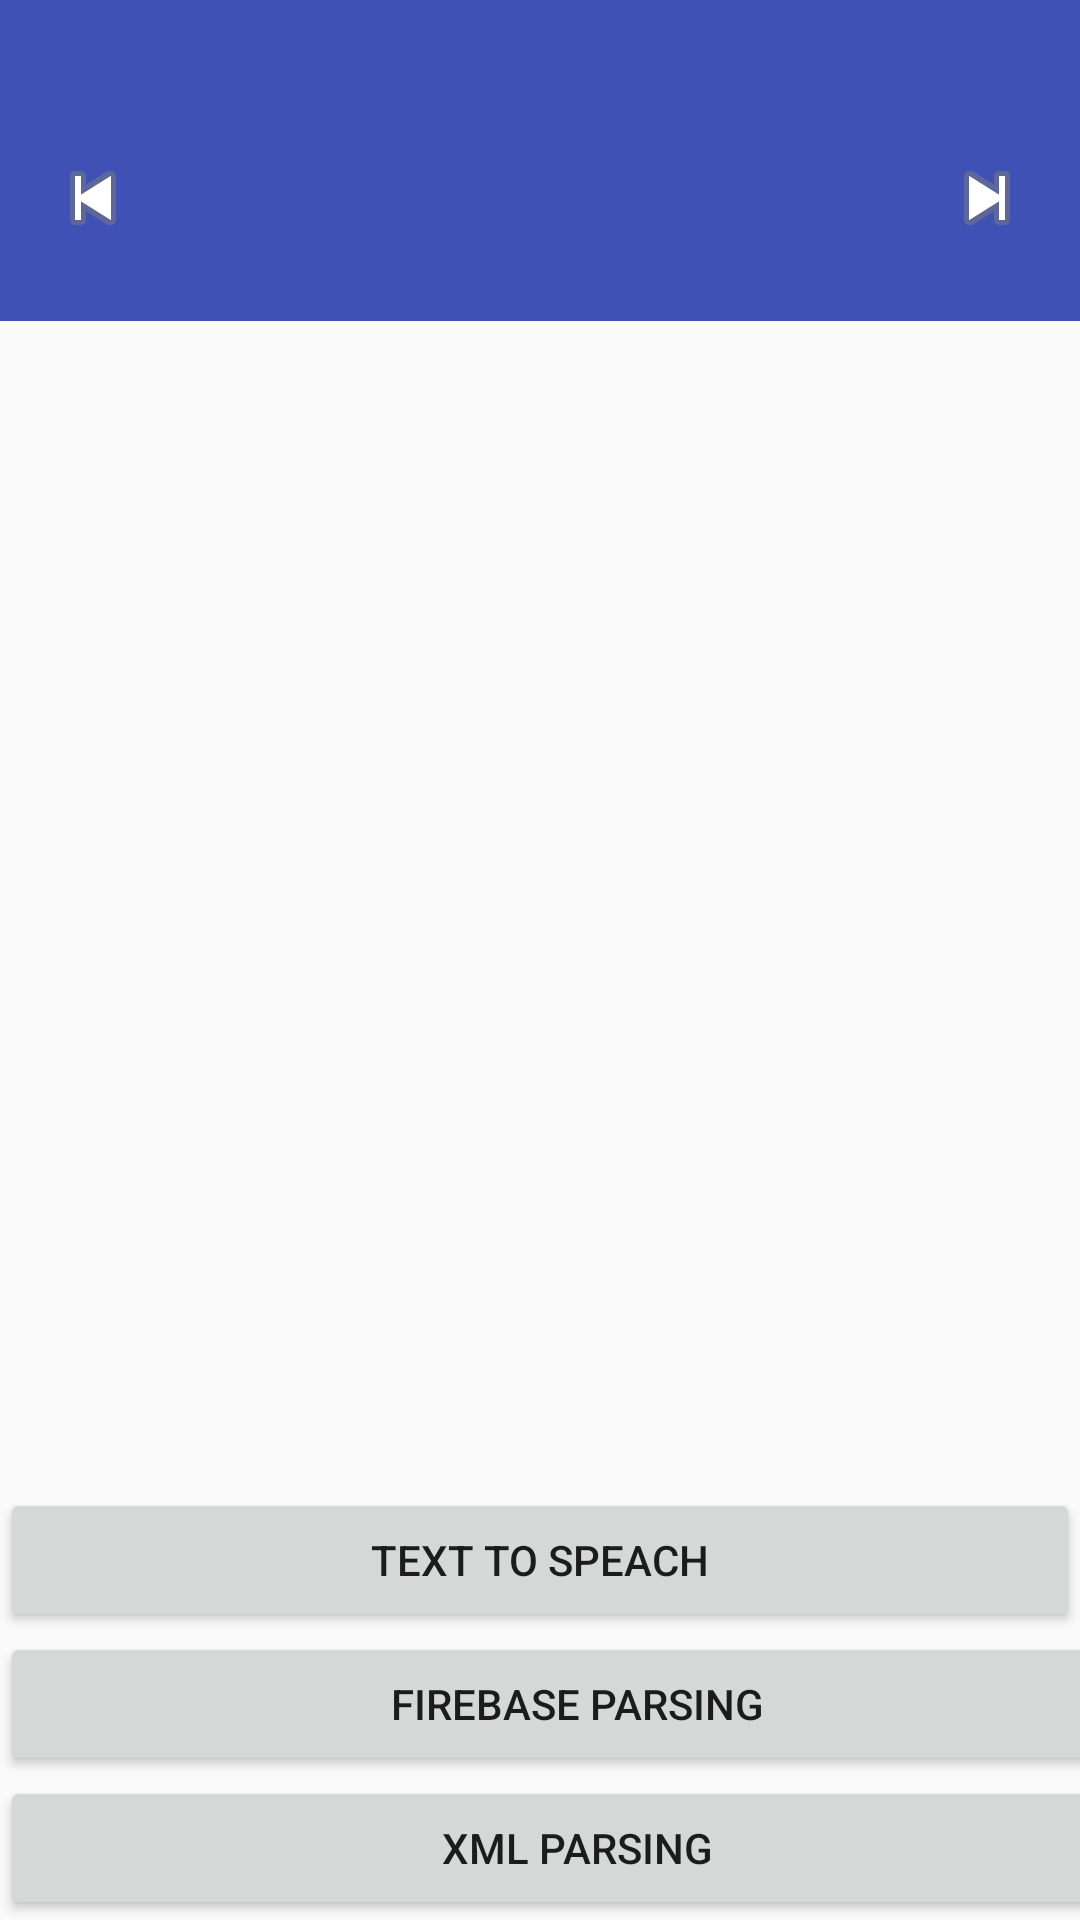

Icon bounding boxes for this 1080x1920 phone screenshot, format [x1, y1, x2, y2]:
next: [964, 171, 1010, 225]
previous: [70, 171, 116, 225]
